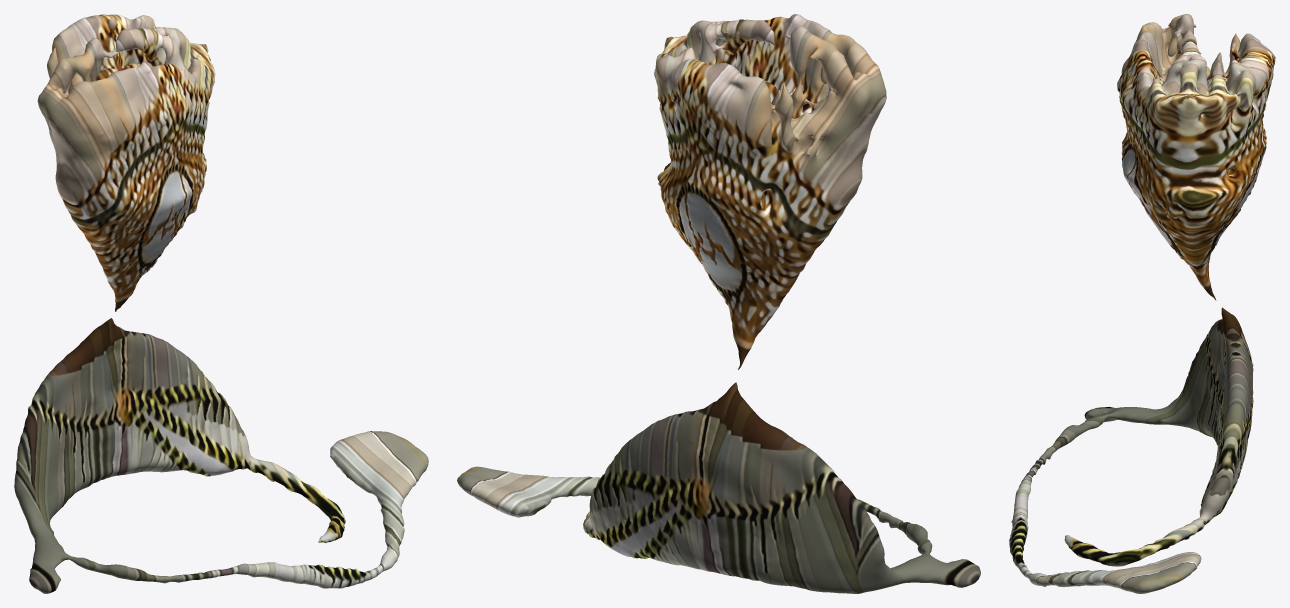
File: kfl-2279.glb
The picture shows the model from 3 angles, left to right: view 1: azimuth 30°, elevation 25°; view 2: azimuth 150°, elevation 25°; view 3: azimuth 270°, elevation 25°; orthographic projection. The views are drawn at different scales.
Visible parts, largest first — view 1: kfl-2279; view 2: kfl-2279; view 3: kfl-2279.
Part boxes in pixels (left/top/right/bottom): kfl-2279: left=14, top=14, right=428, bottom=593; kfl-2279: left=457, top=14, right=980, bottom=593; kfl-2279: left=1009, top=14, right=1275, bottom=593.
Size of the model in its own units: 0.8255 by 0.9865 by 0.4997.
1 material, 1 textured.
